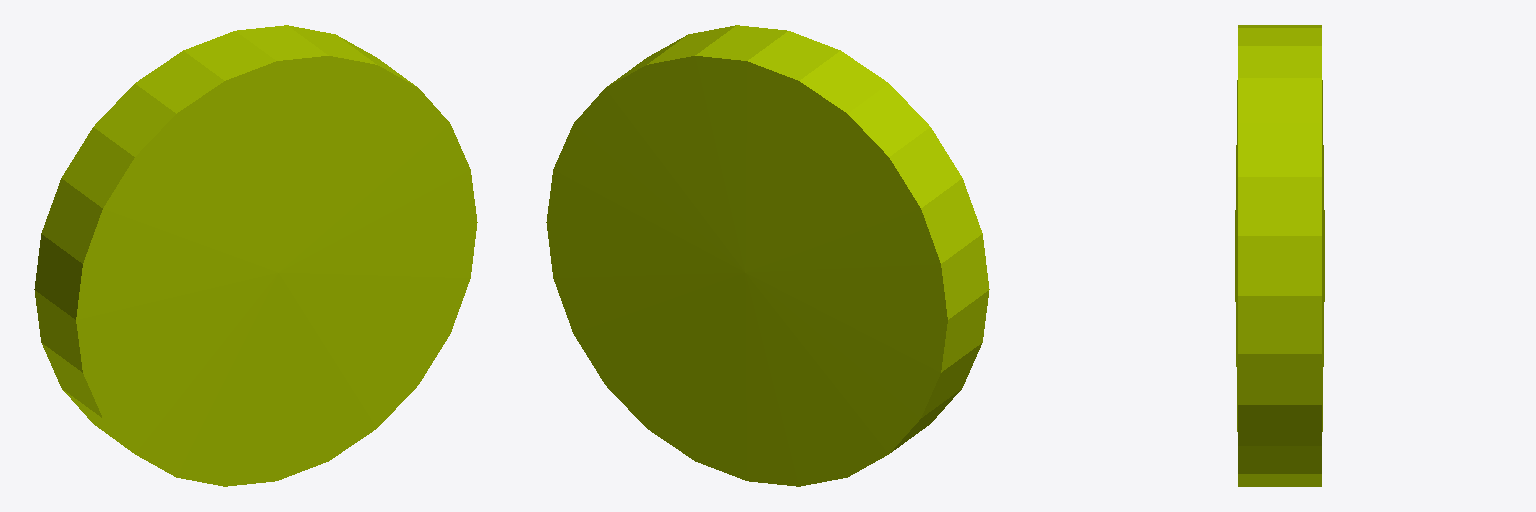
The model's file is coin.obj.
The picture shows the model from 3 angles: view 1: azimuth 30°, elevation 25°; view 2: azimuth 150°, elevation 25°; view 3: azimuth 270°, elevation 25°; orthographic projection.
Visible parts, largest first — view 1: Coin__BodyMT; view 2: Coin__BodyMT; view 3: Coin__BodyMT.
Part boxes in pixels (bbox=[...]): Coin__BodyMT: bbox=[34, 25, 477, 486]; Coin__BodyMT: bbox=[546, 25, 989, 486]; Coin__BodyMT: bbox=[1235, 25, 1324, 486].
Bounding box in the file's own units: 0.577 × 0.5769 × 0.1125.